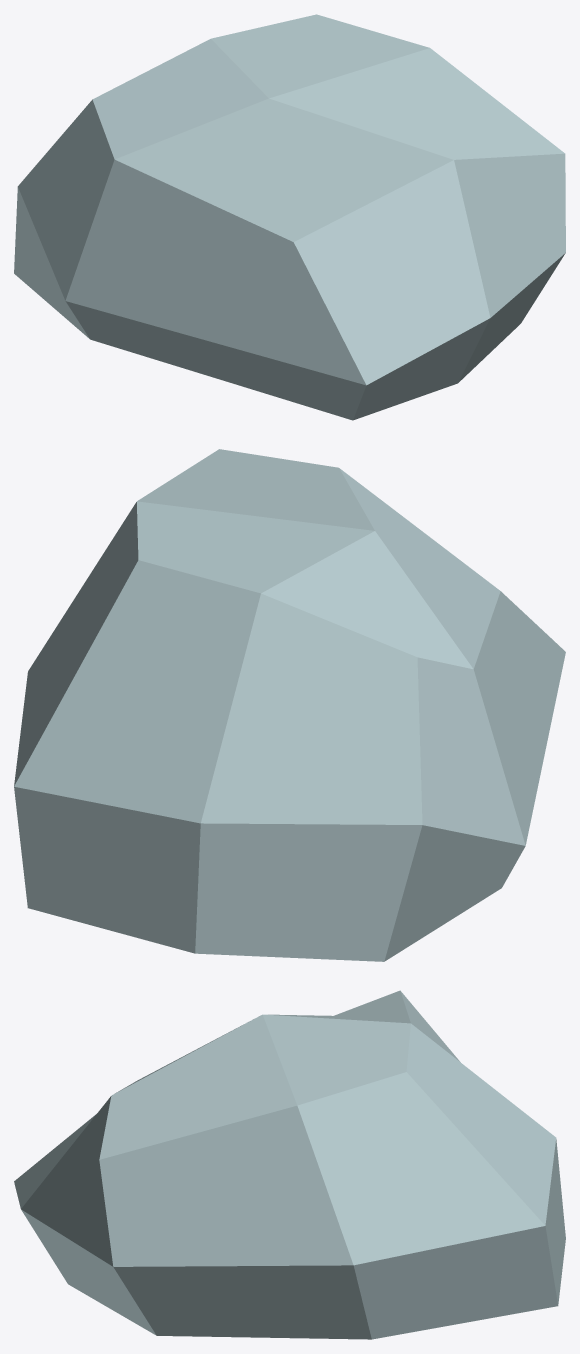
File: Stone_2_Normal_Dark.fbx
3 renders of one model, top to bottom at view 1: azimuth 30°, elevation 25°; view 2: azimuth 150°, elevation 25°; view 3: azimuth 270°, elevation 25°, orthographic. The views are drawn at different scales.
Parts seen in each view (by area): view 1: Stone_2_Normal_Dark; view 2: Stone_2_Normal_Dark; view 3: Stone_2_Normal_Dark.
Boxes of the visible parts, left/top/right/bottom form: Stone_2_Normal_Dark: left=14, top=14, right=565, bottom=420; Stone_2_Normal_Dark: left=14, top=449, right=565, bottom=961; Stone_2_Normal_Dark: left=14, top=990, right=565, bottom=1339.
Bounding box in the file's own units: 0.2544 × 0.1407 × 0.309.
